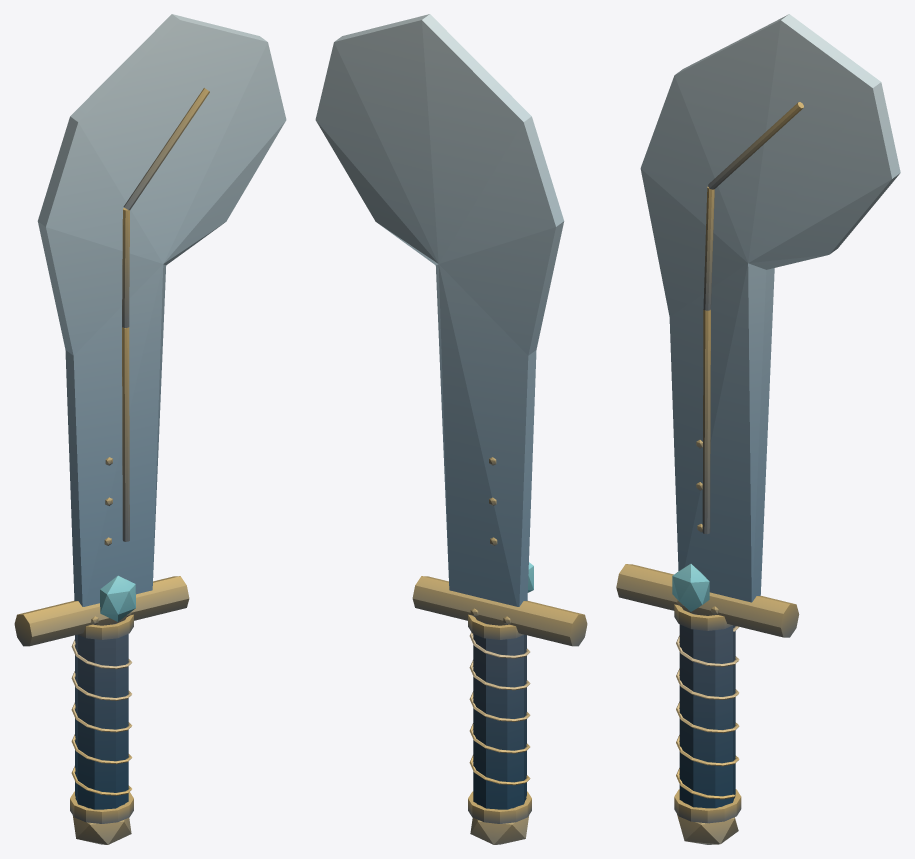
File: khopesh_marea_real.glb
3 renders of one model, left to right at view 1: azimuth 30°, elevation 25°; view 2: azimuth 150°, elevation 25°; view 3: azimuth 330°, elevation 25°, orthographic. The views are drawn at different scales.
Visible parts, largest first — view 1: khopesh_marea_real_finished; view 2: khopesh_marea_real_finished; view 3: khopesh_marea_real_finished.
Part boxes in pixels (x1=…): khopesh_marea_real_finished: x1=14, y1=14, x2=286, y2=844; khopesh_marea_real_finished: x1=315, y1=14, x2=587, y2=844; khopesh_marea_real_finished: x1=616, y1=14, x2=900, y2=844.
Bounding box in the file's own units: 0.56 × 1.67 × 0.1413.
Materials: 2 (2 with a texture image).
